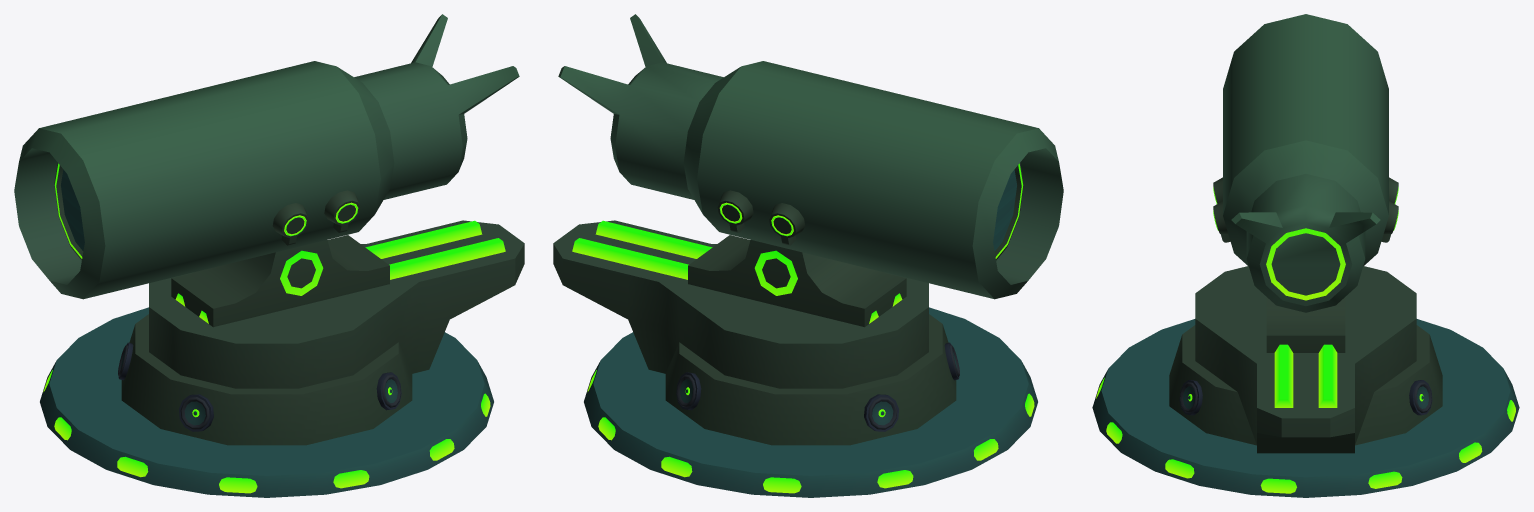
Rendered from green_02.fbx.
3 renders of one model, left to right at view 1: azimuth 30°, elevation 25°; view 2: azimuth 150°, elevation 25°; view 3: azimuth 270°, elevation 25°, orthographic. The views are drawn at different scales.
Visible parts, largest first — view 1: Plane.015, Circle.021, green_02; view 2: Plane.015, Circle.021, green_02; view 3: Plane.015, Circle.021, green_02.
Boxes of the visible parts, x1,y1,x2,y2 form: Plane.015: [14, 14, 519, 327]; Circle.021: [118, 220, 524, 445]; green_02: [40, 307, 493, 497]; Plane.015: [558, 14, 1063, 327]; Circle.021: [553, 220, 959, 445]; green_02: [584, 307, 1037, 497]; Plane.015: [1213, 14, 1398, 352]; Circle.021: [1169, 266, 1442, 453]; green_02: [1092, 319, 1519, 497].
Bounding box in the file's own units: 604 × 398 × 514.
